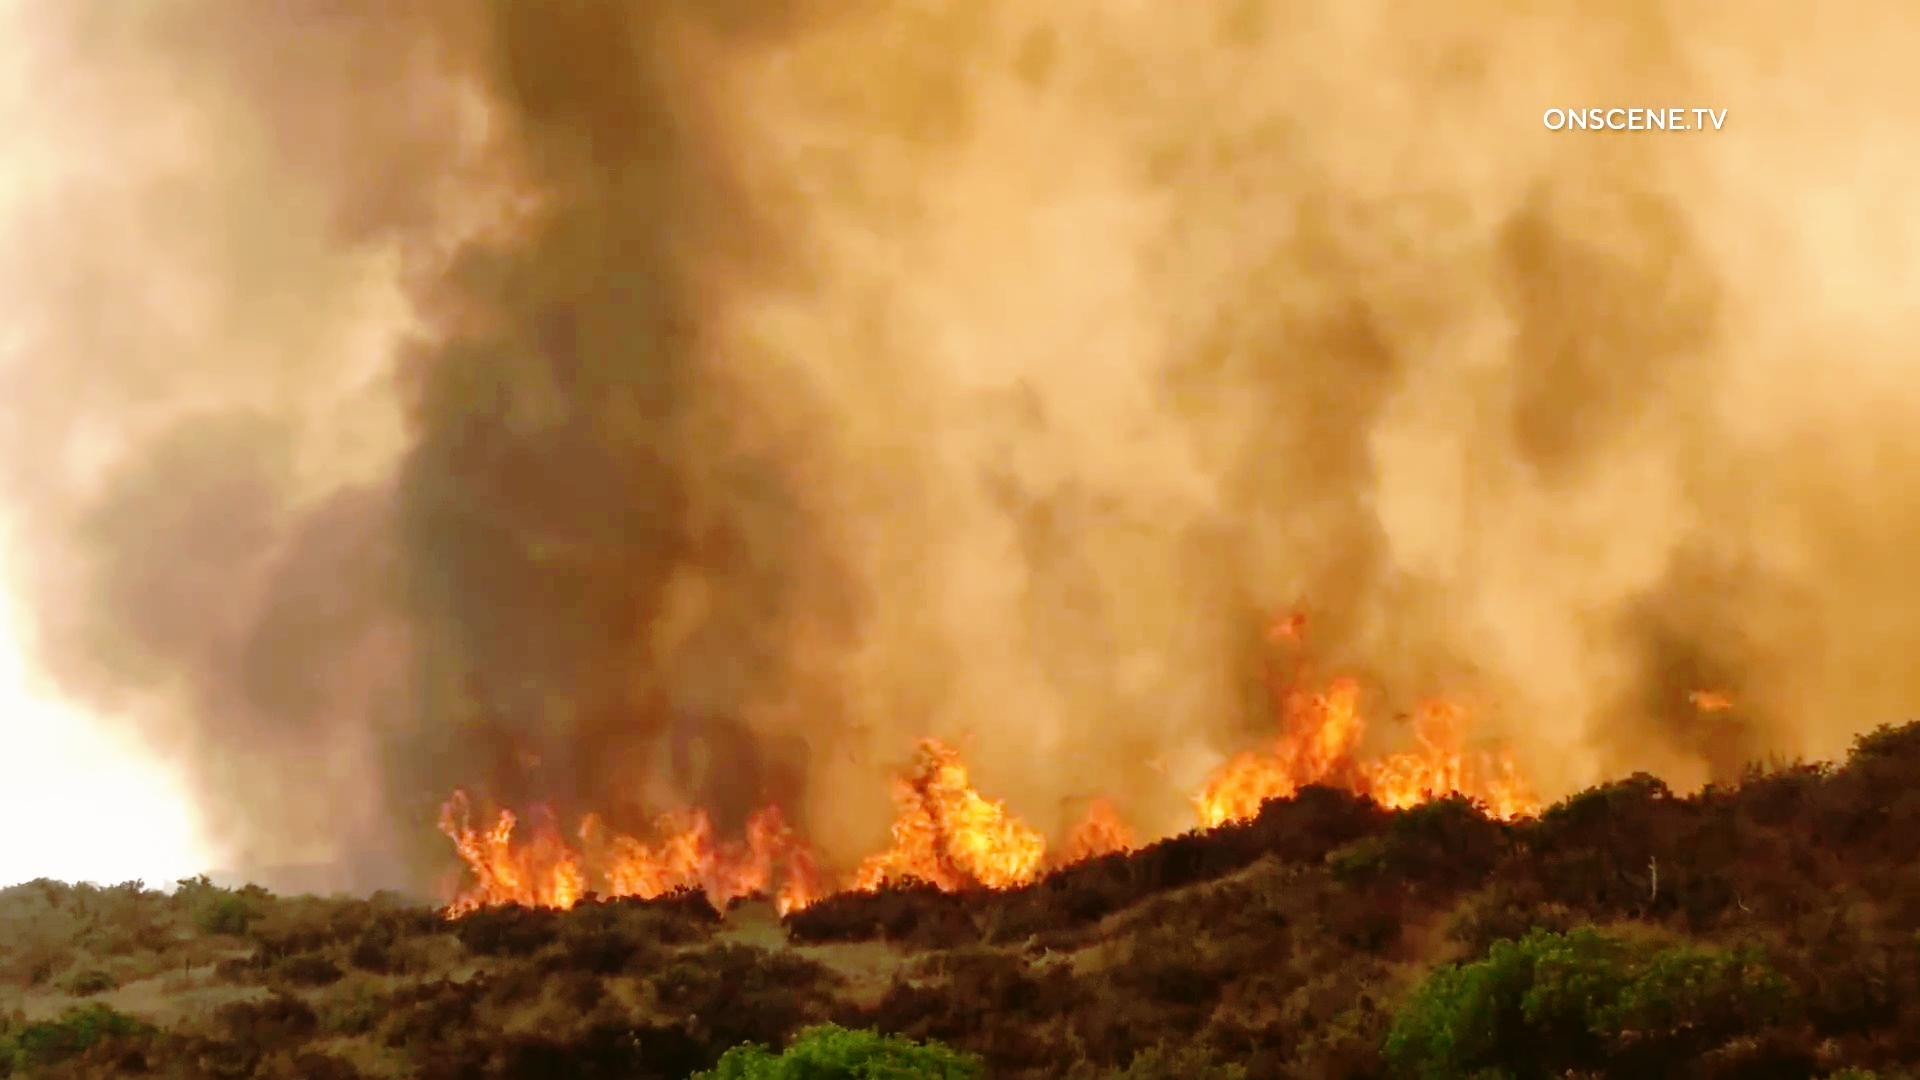fire: (1188, 633, 1532, 839), (418, 766, 814, 920), (856, 742, 1031, 897)
smoke: (345, 11, 800, 742), (1556, 183, 1783, 781)
